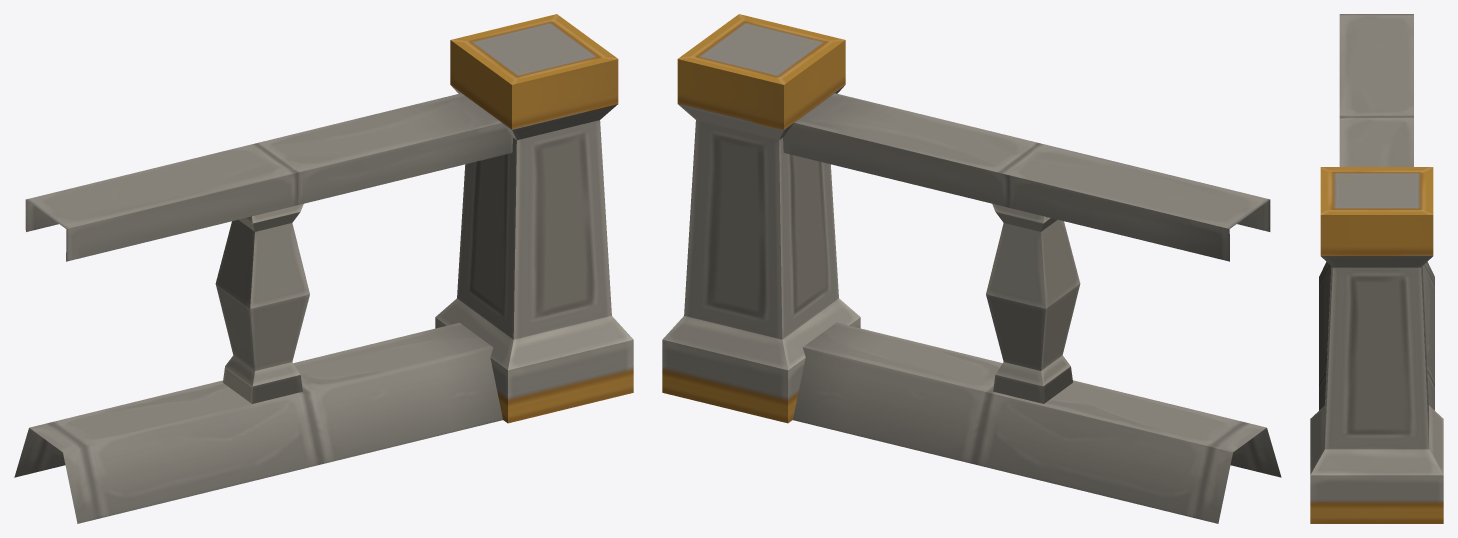
Rendered from sea_fence_2.FBX.
3 renders of one model, left to right at view 1: azimuth 30°, elevation 25°; view 2: azimuth 150°, elevation 25°; view 3: azimuth 270°, elevation 25°, orthographic. The views are drawn at different scales.
Visible parts, largest first — view 1: Object183; view 2: Object183; view 3: Object183.
Boxes of the visible parts, box(x1,y1,x2,y2) form: Object183: box(14, 14, 633, 523); Object183: box(662, 14, 1281, 523); Object183: box(1310, 14, 1443, 523).
Size of the model in its own units: 115 by 26.31 by 66.4.
